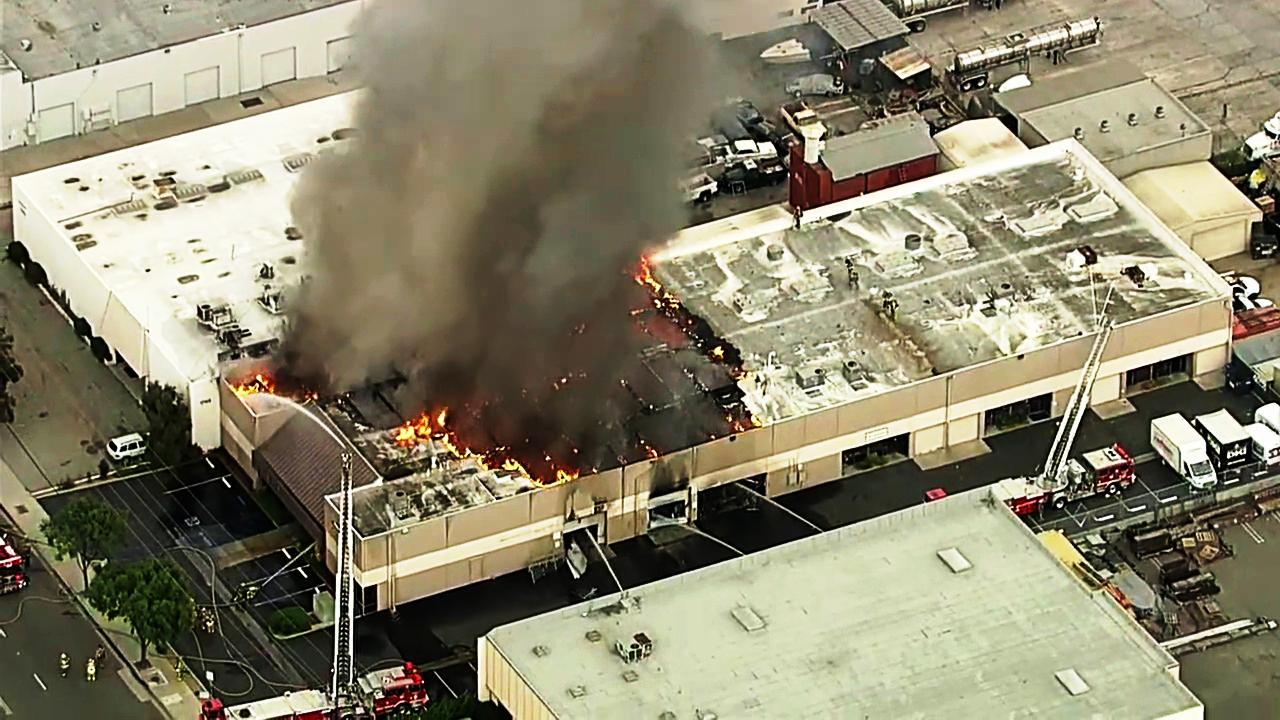smoke: (354, 19, 599, 355)
